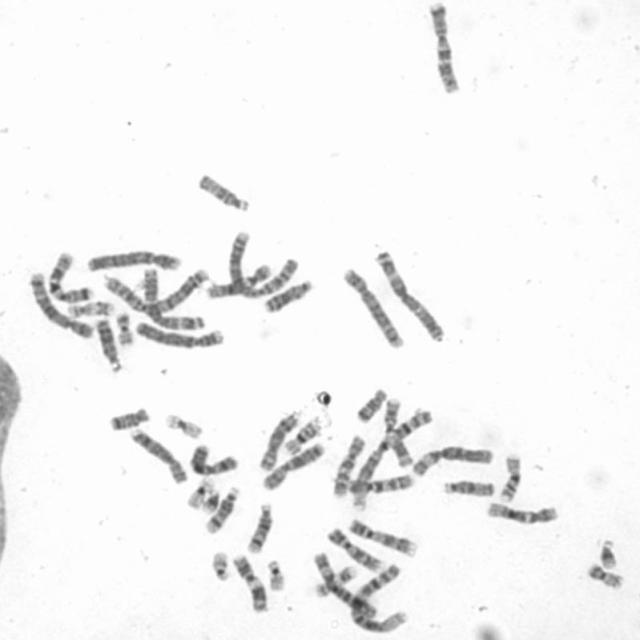A1: (348, 406, 436, 511), (346, 561, 409, 634)
A2: (100, 270, 208, 330), (226, 228, 300, 299)
A3: (370, 246, 446, 344), (140, 264, 208, 332)
B4: (132, 318, 226, 350), (84, 247, 184, 272)
B5: (340, 264, 405, 350), (26, 268, 95, 341)
C10: (329, 431, 367, 498), (343, 470, 414, 496)
C11: (230, 551, 269, 614), (380, 394, 413, 468)
C12: (203, 260, 273, 301), (483, 500, 559, 526)
C6: (310, 548, 378, 620), (409, 442, 494, 478)
C7: (426, 1, 462, 97), (43, 249, 94, 303)
C8: (127, 426, 189, 486), (255, 408, 302, 472)
C9: (345, 514, 420, 558), (324, 525, 384, 573)
D13: (259, 276, 315, 315), (93, 315, 122, 372)
D14: (201, 482, 240, 535), (243, 500, 274, 555)
D15: (196, 169, 252, 214), (439, 476, 496, 499)
E16: (279, 416, 323, 456), (496, 450, 523, 504)
E17: (311, 562, 358, 598), (64, 298, 116, 319)
E18: (352, 384, 390, 424), (106, 404, 150, 431)
F19: (161, 409, 205, 440), (184, 475, 217, 509)
F20: (585, 559, 626, 590), (113, 308, 136, 348)
G21: (595, 534, 620, 570), (200, 487, 221, 515)
G22: (264, 556, 288, 592), (208, 547, 232, 582)
X: (259, 439, 326, 492), (185, 441, 240, 477)
